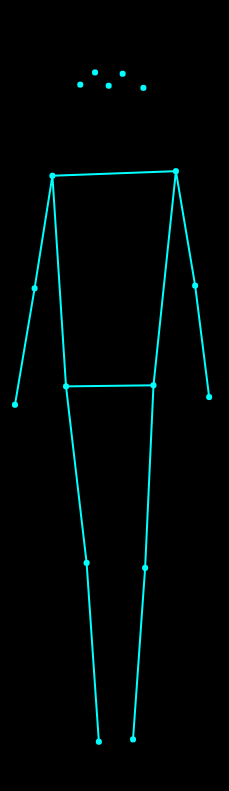mountain: (10, 60, 218, 753)
